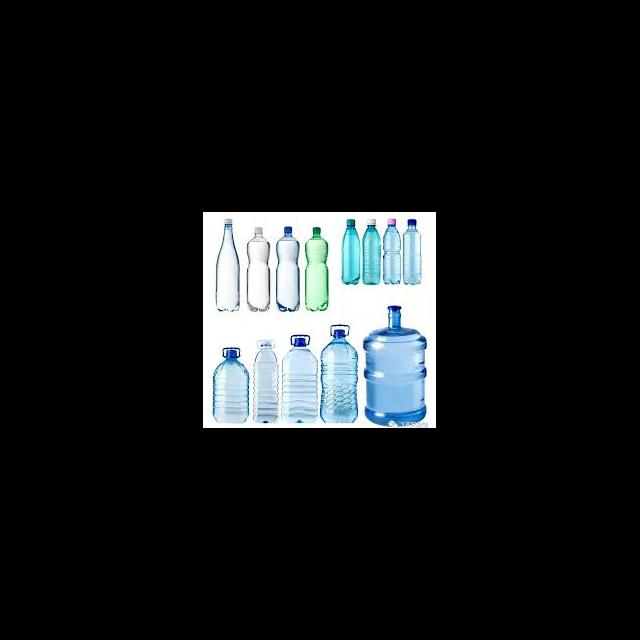plastic: (362, 305, 427, 425), (320, 323, 358, 422), (280, 334, 316, 421), (212, 346, 248, 421), (252, 339, 280, 422), (216, 218, 240, 311), (276, 226, 300, 311), (304, 226, 328, 310), (247, 226, 270, 311), (402, 218, 420, 284), (382, 217, 400, 283), (362, 218, 380, 283), (342, 218, 359, 284), (330, 323, 350, 337), (220, 346, 240, 360), (290, 334, 310, 346), (256, 339, 274, 348), (282, 225, 292, 234), (388, 305, 400, 311), (406, 218, 416, 225), (386, 218, 396, 225), (366, 218, 376, 225), (346, 218, 354, 226), (312, 226, 320, 233), (254, 226, 262, 233), (224, 218, 232, 224)
